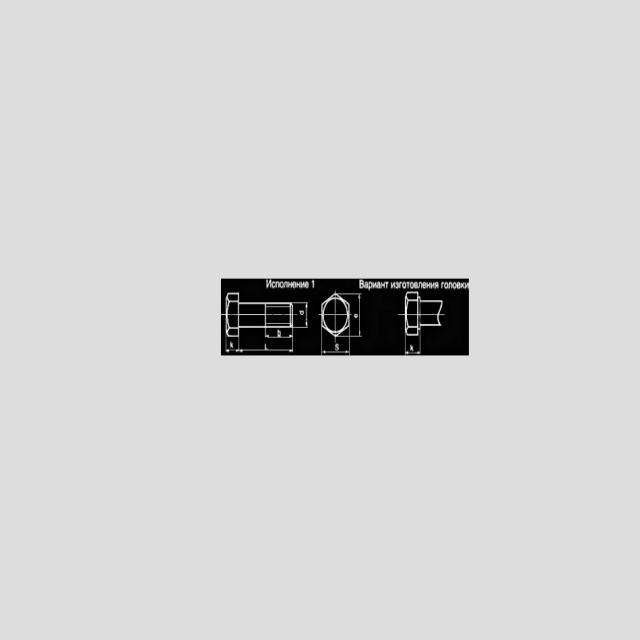marking_line: (225, 337, 294, 353), (239, 337, 294, 353), (321, 338, 350, 355), (351, 293, 362, 337), (294, 302, 308, 329), (264, 329, 294, 340), (404, 337, 421, 355), (225, 338, 240, 354)
numeric: (312, 280, 315, 289)
